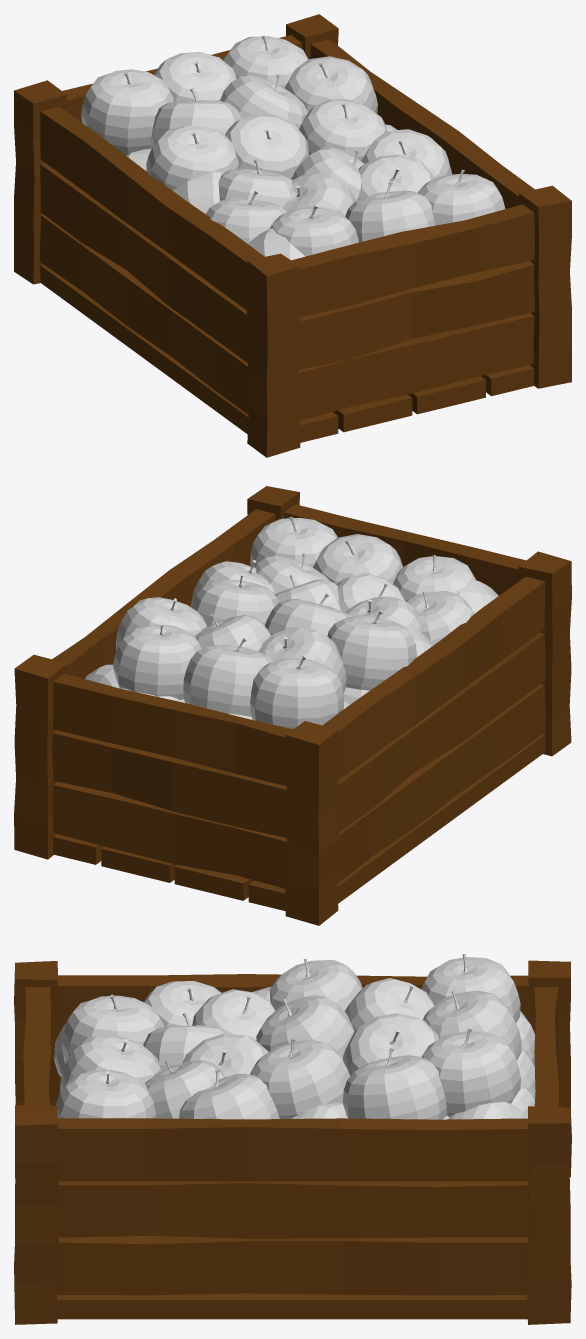
The model's file is æblekassecombineret.fbx.
The picture shows the model from 3 angles, top to bottom: view 1: azimuth 30°, elevation 25°; view 2: azimuth 150°, elevation 25°; view 3: azimuth 270°, elevation 25°; orthographic projection. The views are drawn at different scales.
Parts seen in each view (by area): view 1: Cube.006, Plane.050; view 2: Cube.006, Plane.050; view 3: Cube.006, Plane.050.
Part boxes in pixels (x1,y1,x2,y2): Cube.006: [14, 14, 571, 457]; Plane.050: [81, 35, 505, 260]; Cube.006: [14, 486, 571, 925]; Plane.050: [85, 516, 498, 729]; Cube.006: [14, 960, 571, 1324]; Plane.050: [54, 954, 535, 1119].
Size of the model in its own units: 465 by 321 by 667.
